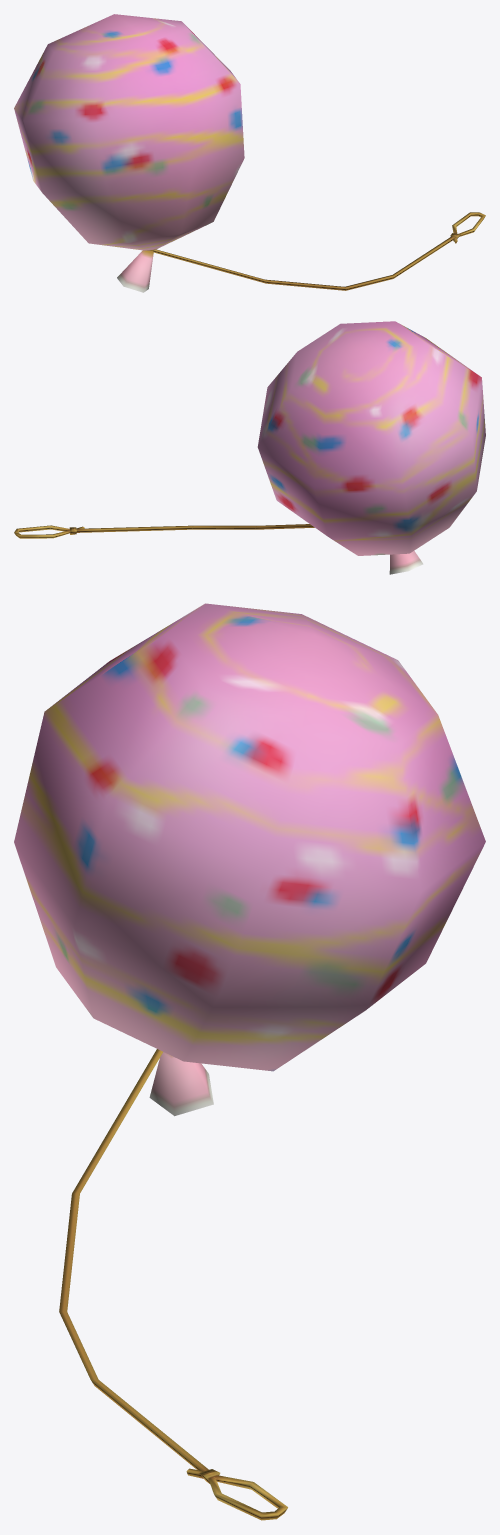
The model's file is jsf_WaterBalloon_09_b.fbx.
3 views of the same model, one above another, from view 1: azimuth 30°, elevation 25°; view 2: azimuth 150°, elevation 25°; view 3: azimuth 270°, elevation 25° (orthographic). The views are drawn at different scales.
Visible parts, largest first — view 1: jsf_WaterBalloon_09_b; view 2: jsf_WaterBalloon_09_b; view 3: jsf_WaterBalloon_09_b.
Part boxes in pixels (x1,y1,x2,y2): jsf_WaterBalloon_09_b: [14, 14, 485, 292]; jsf_WaterBalloon_09_b: [14, 321, 485, 574]; jsf_WaterBalloon_09_b: [14, 603, 485, 1520].
Size of the model in its own units: 24.35 by 14.34 by 11.11.
